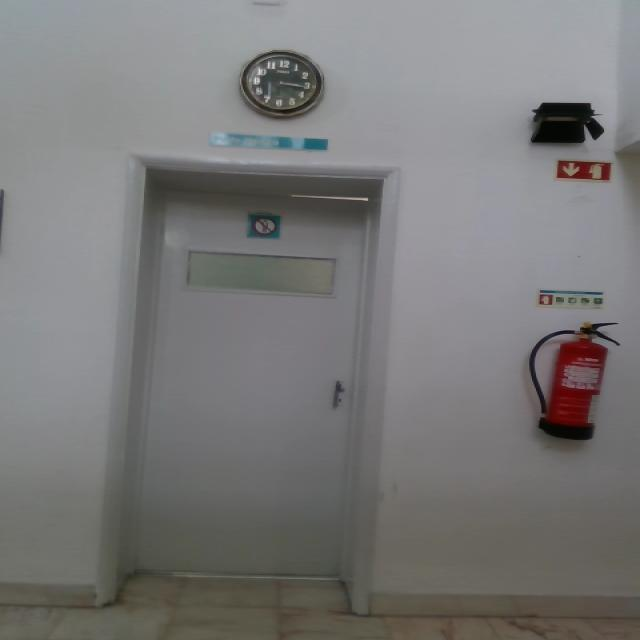door: (102, 154, 406, 628)
